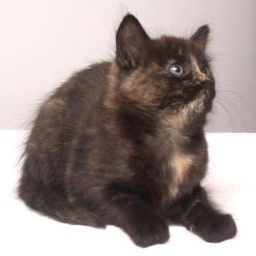cat: (17, 19, 237, 247)
